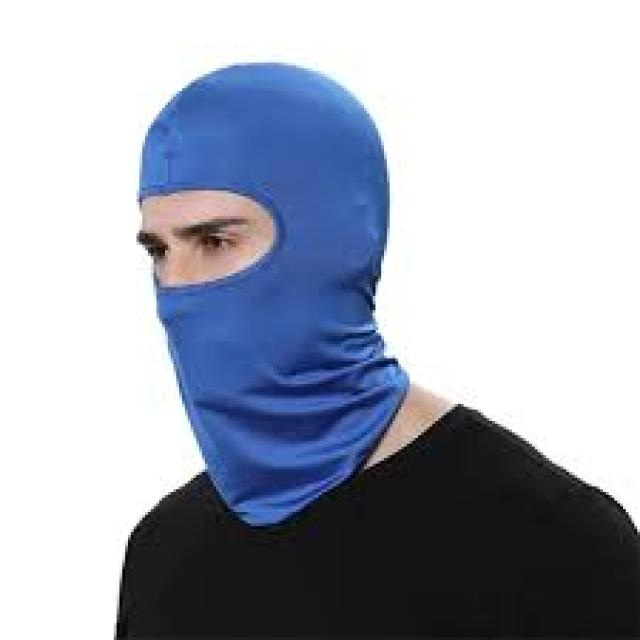person-with-mask: (71, 40, 640, 640)
